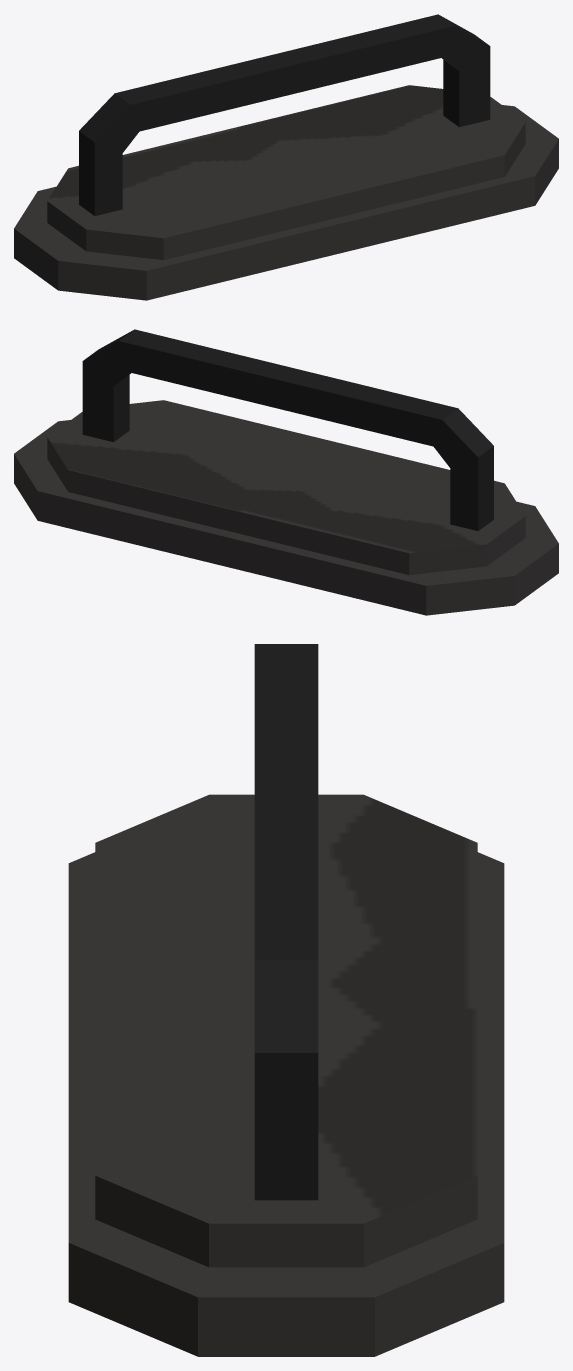
The model's file is handle.obj.
The picture shows the model from 3 angles, top to bottom: view 1: azimuth 30°, elevation 25°; view 2: azimuth 150°, elevation 25°; view 3: azimuth 270°, elevation 25°; orthographic projection. The views are drawn at different scales.
Parts seen in each view (by area): view 1: Cube.004, Cube.005; view 2: Cube.004, Cube.005; view 3: Cube.004, Cube.005.
Boxes of the visible parts, x1,y1,x2,y2 form: Cube.004: (14, 85, 558, 300); Cube.005: (79, 14, 490, 215); Cube.004: (14, 400, 558, 615); Cube.005: (82, 329, 493, 530); Cube.004: (68, 794, 504, 1356); Cube.005: (254, 644, 318, 1200).
Bounding box in the file's own units: 1.47 × 0.4404 × 0.5541.
2 materials, 2 textured.
